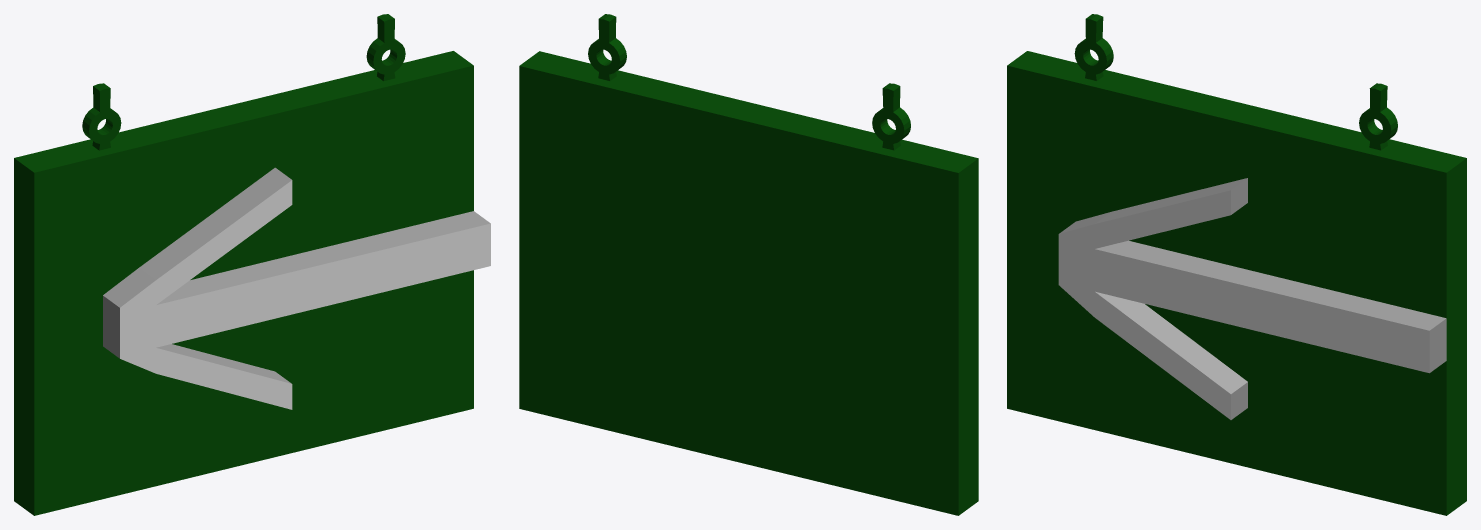
File: Arrow.fbx
The picture shows the model from 3 angles, left to right: view 1: azimuth 30°, elevation 25°; view 2: azimuth 150°, elevation 25°; view 3: azimuth 330°, elevation 25°; orthographic projection.
Parts seen in each view (by area): view 1: pCylinder3; view 2: pCylinder3; view 3: pCylinder3.
Part boxes in pixels (x1,y1,x2,y2): pCylinder3: (14, 14, 490, 515); pCylinder3: (519, 14, 978, 515); pCylinder3: (1007, 14, 1466, 515).
Size of the model in its own units: 0.1862 by 0.1634 by 0.0274.
